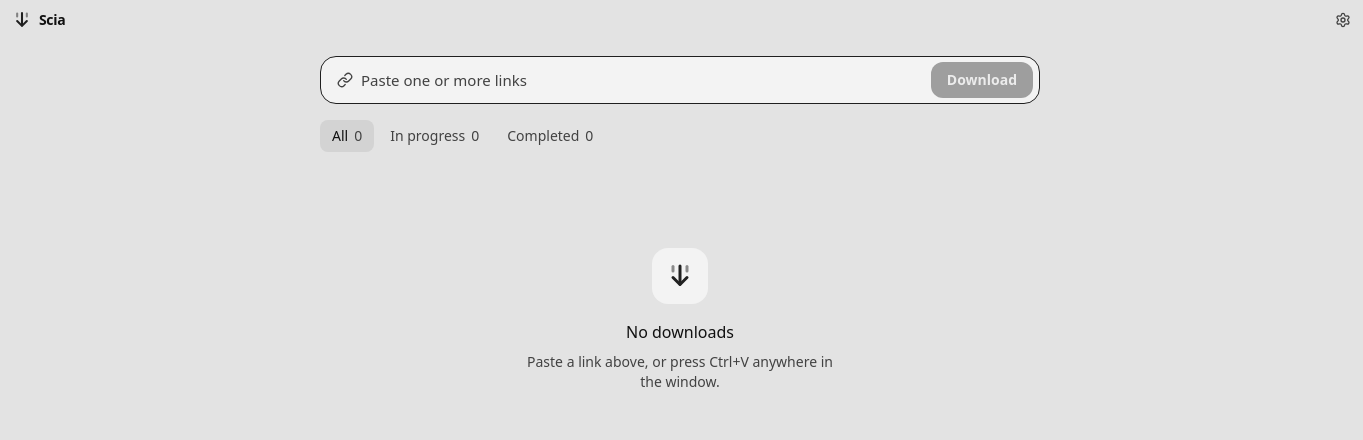
Test: App › keeps what the engine refused of the typed text under the field, not in a notice
In the field named "Links to download": point(642, 80) [361, 57, 923, 103], type "https://example.com/a.zip"
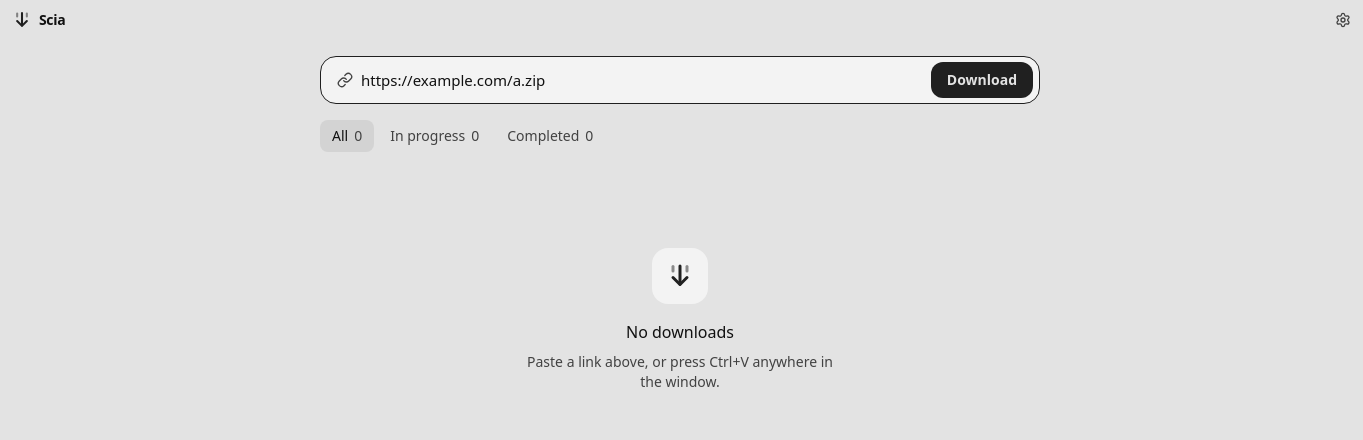
Click the button "Download": point(982, 80) [931, 62, 1033, 98]
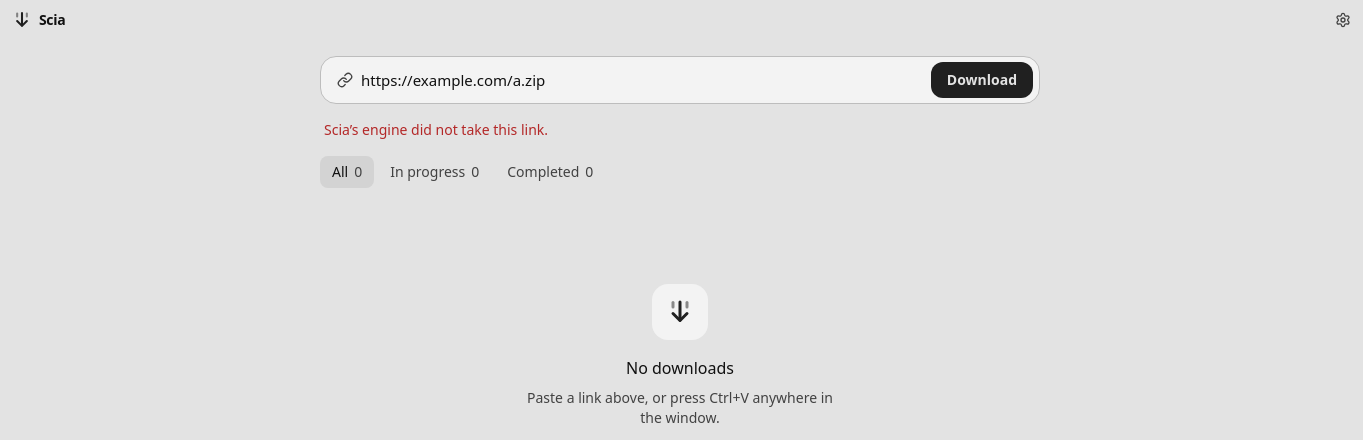
In the field named "Links to download": point(642, 80) [361, 57, 923, 103], type "x"
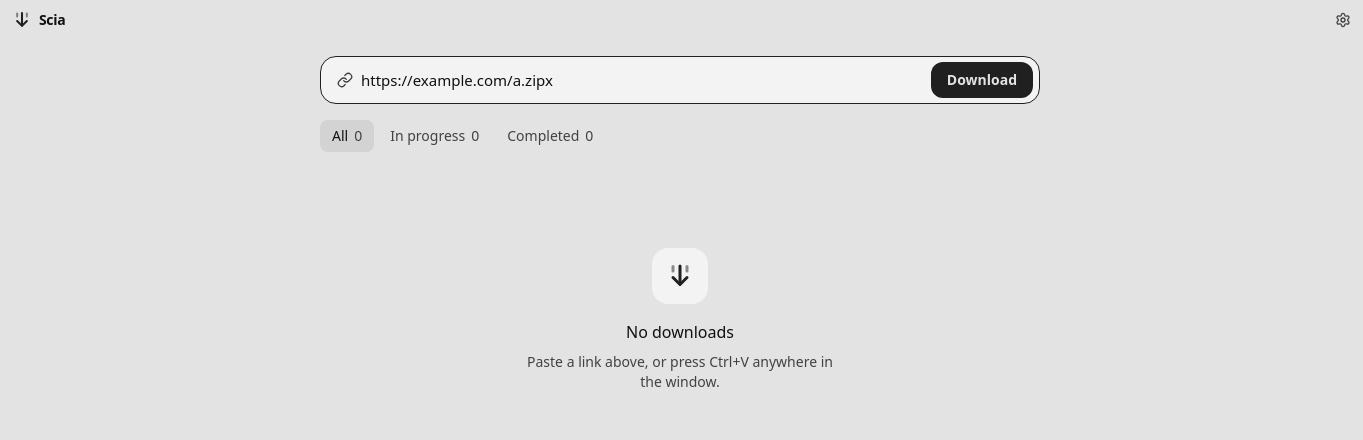
Result: the field named "Links to download" does not have attribute aria-invalid="true" at [361, 57, 923, 103]
